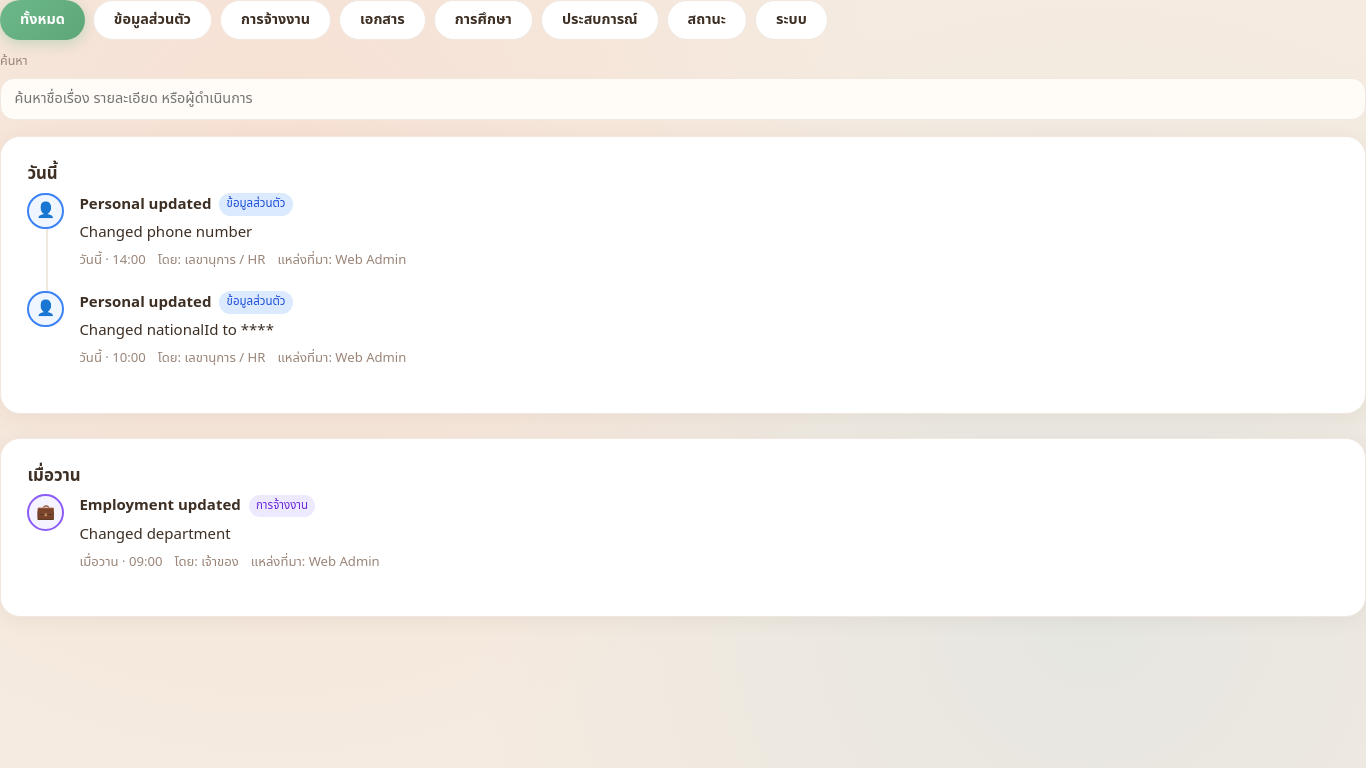
Test: EmployeeTimelineTab › filters by employment category
The image size is (1366, 768).
Expected: the list item with test id "timeline-item-ch-1" is shown, x1=27 y1=193 x2=406 y2=270
Click the button with test id "timeline-filter-employment" at [276, 20], box x1=220 y1=0 x2=331 y2=40
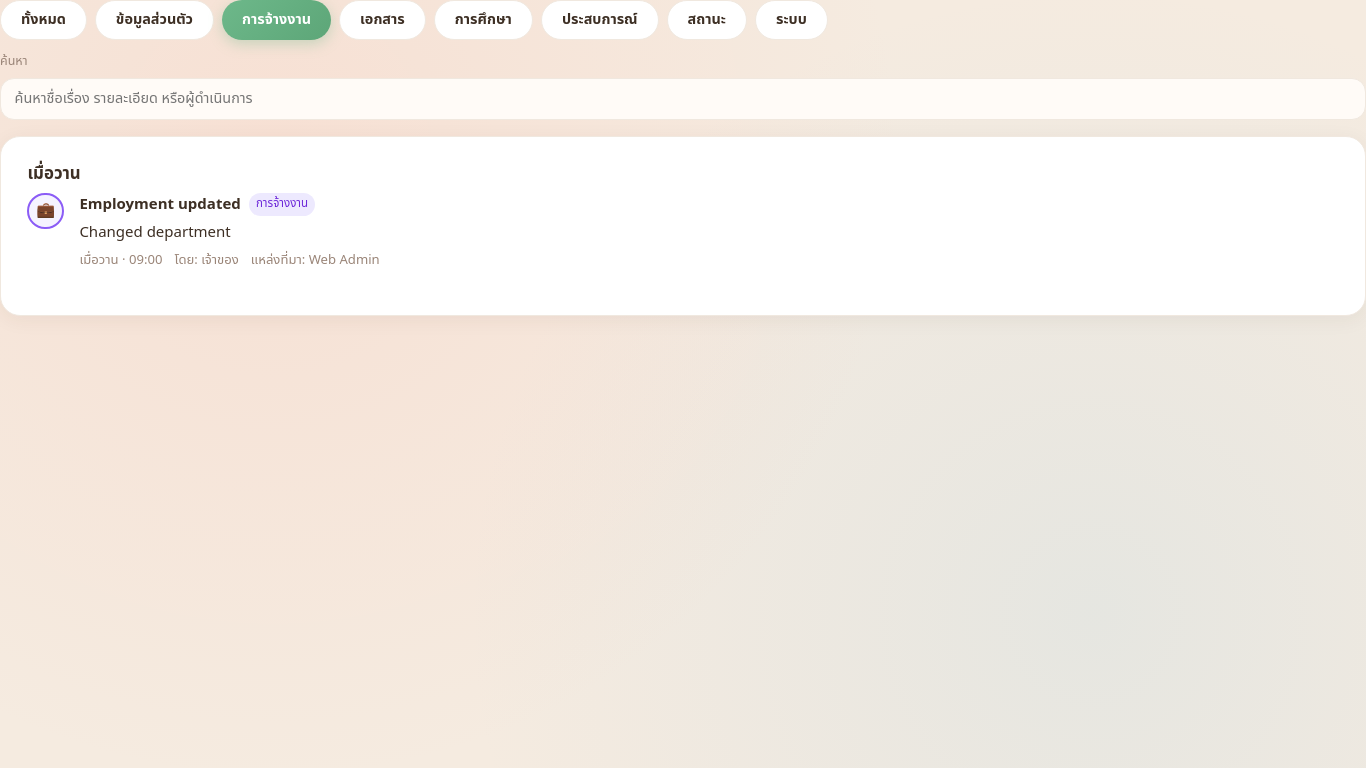
Expected: the text "Changed department" is shown, x1=79 y1=222 x2=231 y2=244
Expected: the text "Changed phone number" is gone
